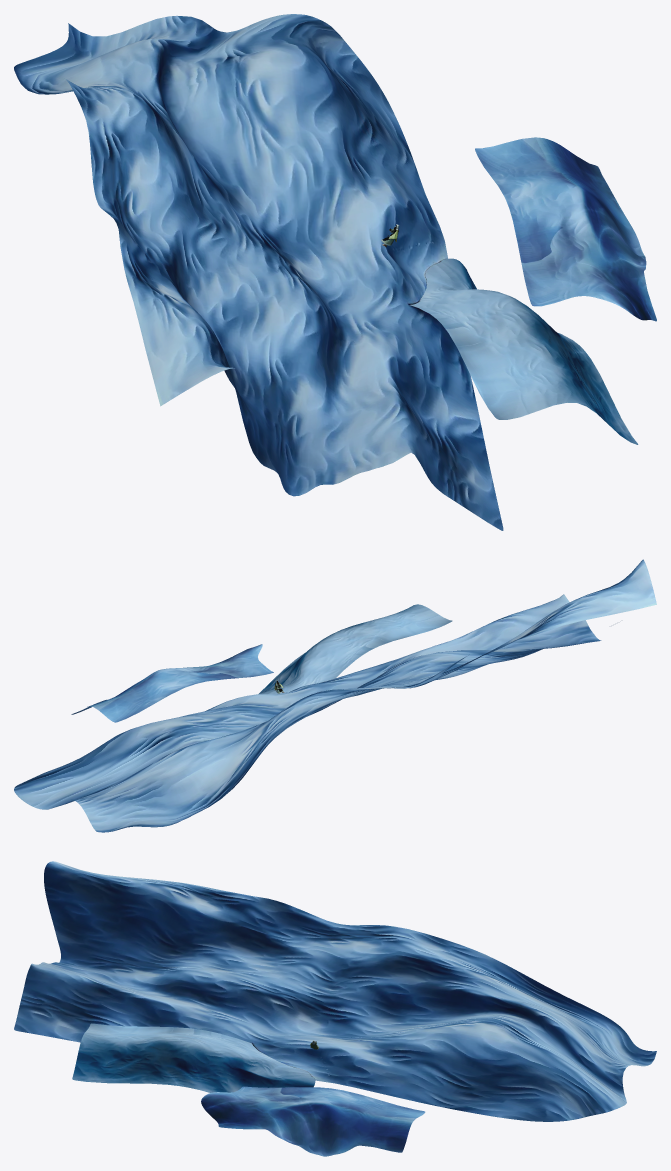
File: scena_03.glb
The picture shows the model from 3 angles, top to bottom: view 1: azimuth 30°, elevation 25°; view 2: azimuth 150°, elevation 25°; view 3: azimuth 270°, elevation 25°; orthographic projection. The views are drawn at different scales.
Parts seen in each view (by area): view 1: duna_principale, duna_quinta, duna_quinta_02; view 2: duna_principale, duna_quinta_02, duna_quinta; view 3: duna_principale, duna_quinta_02, duna_quinta.
Part boxes in pixels (x1,y1,x2,y2): duna_principale: (14,14,503,530); duna_quinta: (475,137,656,321); duna_quinta_02: (410,258,638,444); duna_principale: (14,559,656,832); duna_quinta_02: (258,604,452,694); duna_quinta: (71,644,273,722); duna_principale: (14,861,656,1121); duna_quinta_02: (72,1023,315,1092); duna_quinta: (201,1086,425,1156).
Bounding box in the file's own units: 384 × 115 × 536.
4 materials, 4 textured.
